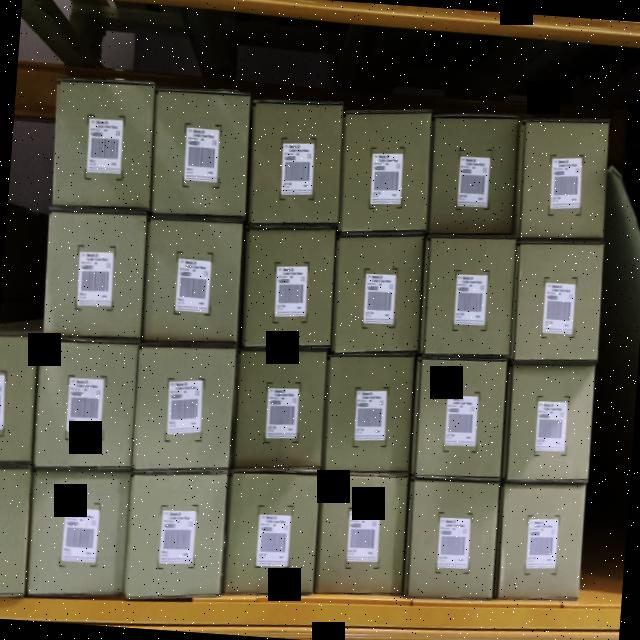box: (31, 330, 139, 475), (244, 92, 348, 234), (140, 212, 247, 348), (50, 77, 157, 213), (41, 208, 148, 338), (24, 468, 130, 598), (148, 88, 252, 220), (133, 344, 239, 472), (124, 469, 228, 598), (425, 114, 524, 240), (240, 221, 336, 350), (224, 467, 322, 592), (422, 232, 518, 358), (313, 470, 406, 599), (502, 359, 598, 483), (322, 350, 418, 474), (515, 117, 609, 243), (413, 354, 508, 476), (405, 475, 501, 595), (330, 231, 424, 352), (512, 240, 604, 363), (338, 112, 432, 232), (494, 484, 586, 606), (234, 351, 328, 468), (0, 334, 39, 470), (0, 467, 31, 602)
